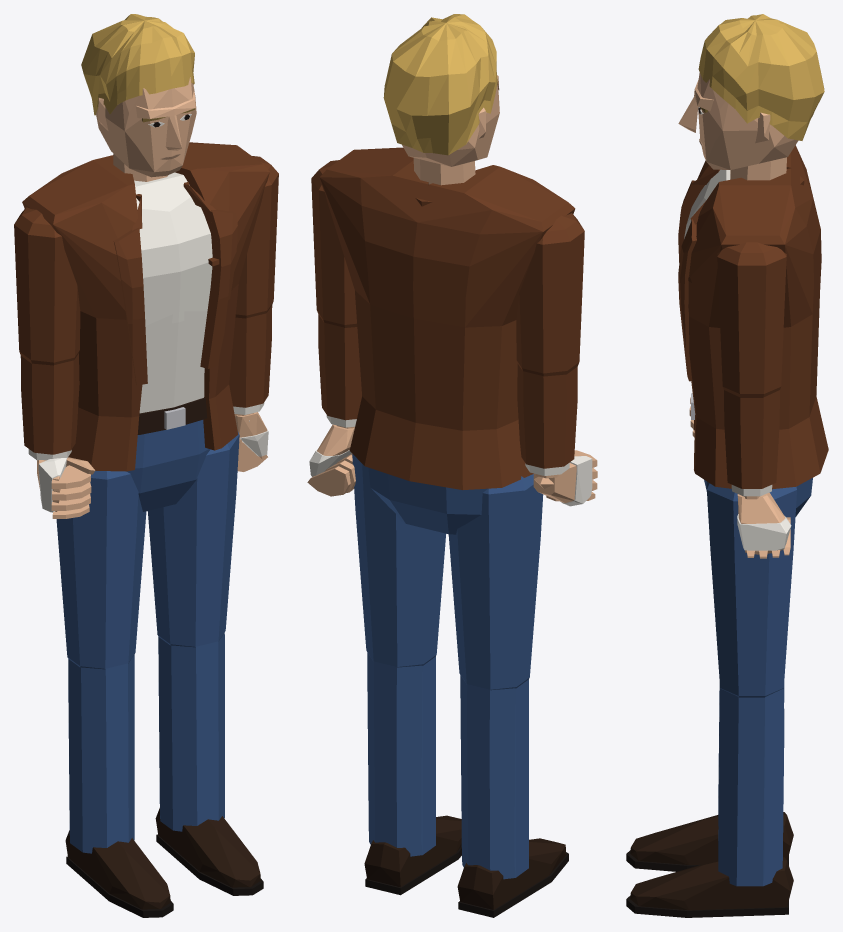
Rendered from boxer.glb.
The picture shows the model from 3 angles, left to right: view 1: azimuth 30°, elevation 25°; view 2: azimuth 150°, elevation 25°; view 3: azimuth 270°, elevation 25°; orthographic projection. The views are drawn at different scales.
Parts seen in each view (by area): view 1: chest_mesh, spine_mesh, head_mesh, upperLegR_mesh, upperLegL_mesh, lowerLegR_mesh, lowerLegL_mesh, hips_mesh, upperArmR_mesh, lowerArmR_mesh, footR_mesh, footL_mesh (+4 smaller); view 2: chest_mesh, spine_mesh, upperLegR_mesh, hips_mesh, head_mesh, upperLegL_mesh, lowerLegL_mesh, lowerLegR_mesh, upperArmR_mesh, lowerArmR_mesh, footR_mesh, upperArmL_mesh (+5 smaller); view 3: head_mesh, chest_mesh, upperLegL_mesh, lowerLegL_mesh, upperArmL_mesh, spine_mesh, footL_mesh, hips_mesh, lowerArmL_mesh, footR_mesh, handL_mesh, neck_mesh.
Part boxes in pixels (bbox=[...]): chest_mesh: bbox=[22, 142, 269, 325]; spine_mesh: bbox=[78, 281, 238, 417]; head_mesh: bbox=[81, 14, 196, 177]; upperLegR_mesh: bbox=[56, 471, 146, 669]; upperLegL_mesh: bbox=[147, 431, 239, 647]; lowerLegR_mesh: bbox=[68, 655, 134, 853]; lowerLegL_mesh: bbox=[158, 633, 224, 831]; hips_mesh: bbox=[68, 384, 238, 511]; upperArmR_mesh: bbox=[14, 207, 80, 365]; lowerArmR_mesh: bbox=[20, 353, 79, 460]; footR_mesh: bbox=[65, 830, 173, 917]; footL_mesh: bbox=[155, 808, 263, 895]; chest_mesh: bbox=[319, 147, 575, 327]; spine_mesh: bbox=[355, 290, 518, 430]; upperLegR_mesh: bbox=[448, 474, 543, 690]; hips_mesh: bbox=[349, 396, 533, 534]; head_mesh: bbox=[383, 14, 499, 166]; upperLegL_mesh: bbox=[352, 454, 445, 667]; lowerLegL_mesh: bbox=[367, 652, 435, 856]; lowerLegR_mesh: bbox=[460, 675, 528, 879]; upperArmR_mesh: bbox=[516, 213, 584, 376]; lowerArmR_mesh: bbox=[517, 364, 577, 478]; footR_mesh: bbox=[457, 838, 568, 917]; upperArmL_mesh: bbox=[311, 160, 357, 327]; head_mesh: bbox=[678, 14, 824, 169]; chest_mesh: bbox=[678, 145, 821, 327]; upperLegL_mesh: bbox=[706, 481, 796, 697]; lowerLegL_mesh: bbox=[718, 688, 784, 886]; upperArmL_mesh: bbox=[717, 242, 786, 397]; spine_mesh: bbox=[680, 292, 819, 429]; footL_mesh: bbox=[626, 857, 793, 917]; hips_mesh: bbox=[691, 393, 828, 516]; lowerArmL_mesh: bbox=[724, 390, 779, 499]; footR_mesh: bbox=[626, 812, 793, 871]; handL_mesh: bbox=[737, 492, 791, 558]; neck_mesh: bbox=[730, 157, 786, 180].
Size of the model in its own units: 0.5788 by 1.85 by 0.3937.
